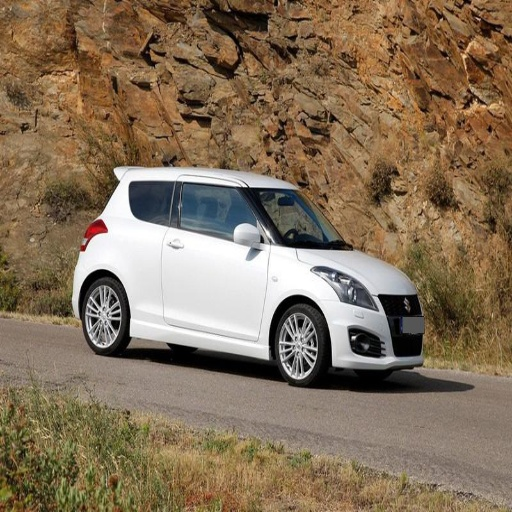back_right_door: (125, 179, 178, 322)
front_bumper: (328, 293, 428, 370)
front_right_door: (165, 179, 270, 341)
front_right_light: (314, 269, 376, 307)
